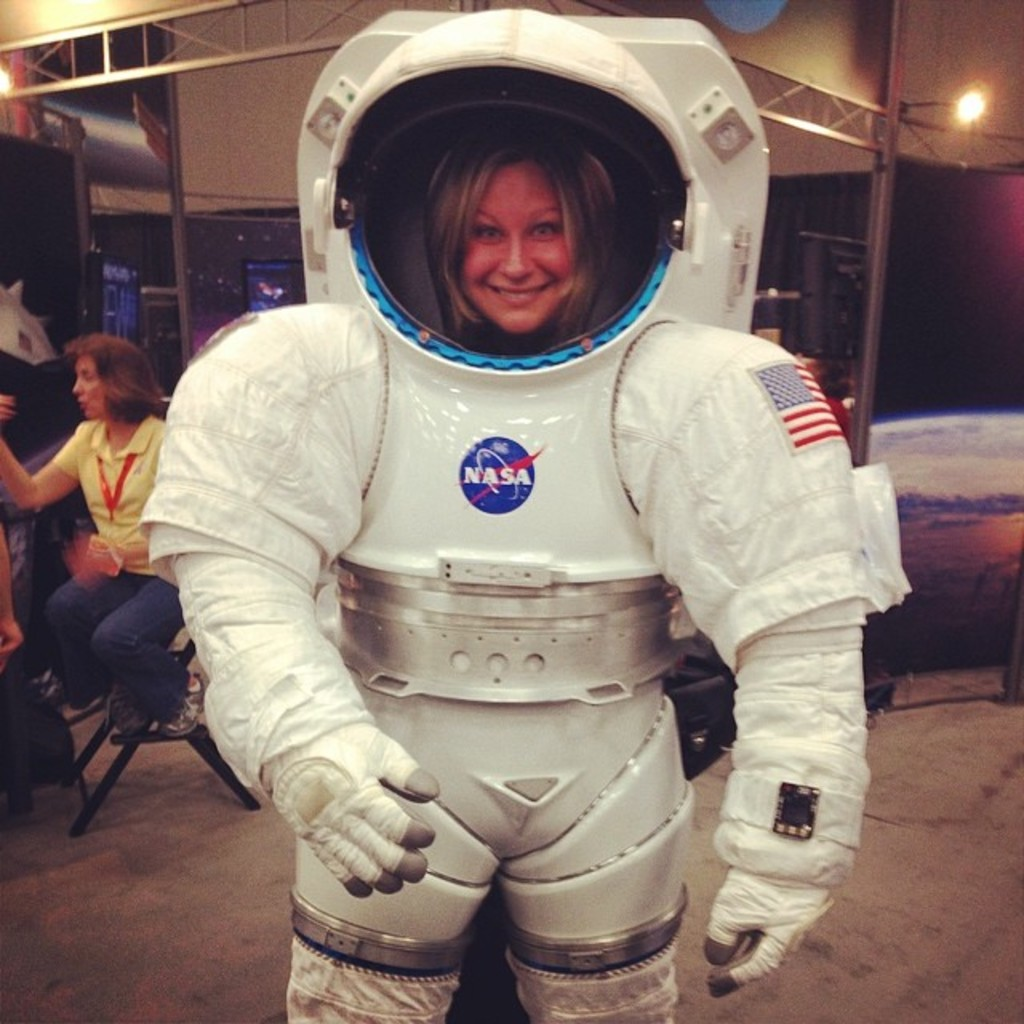Person: (424, 129, 620, 360)
